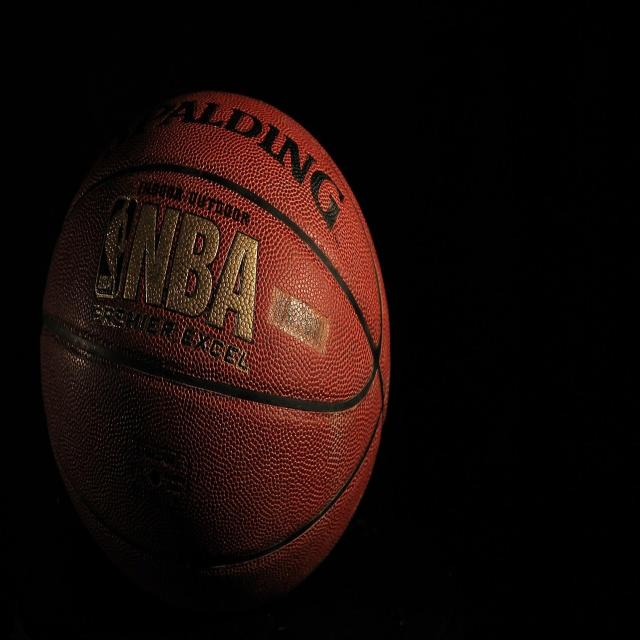Basketball: (41, 90, 395, 586)
